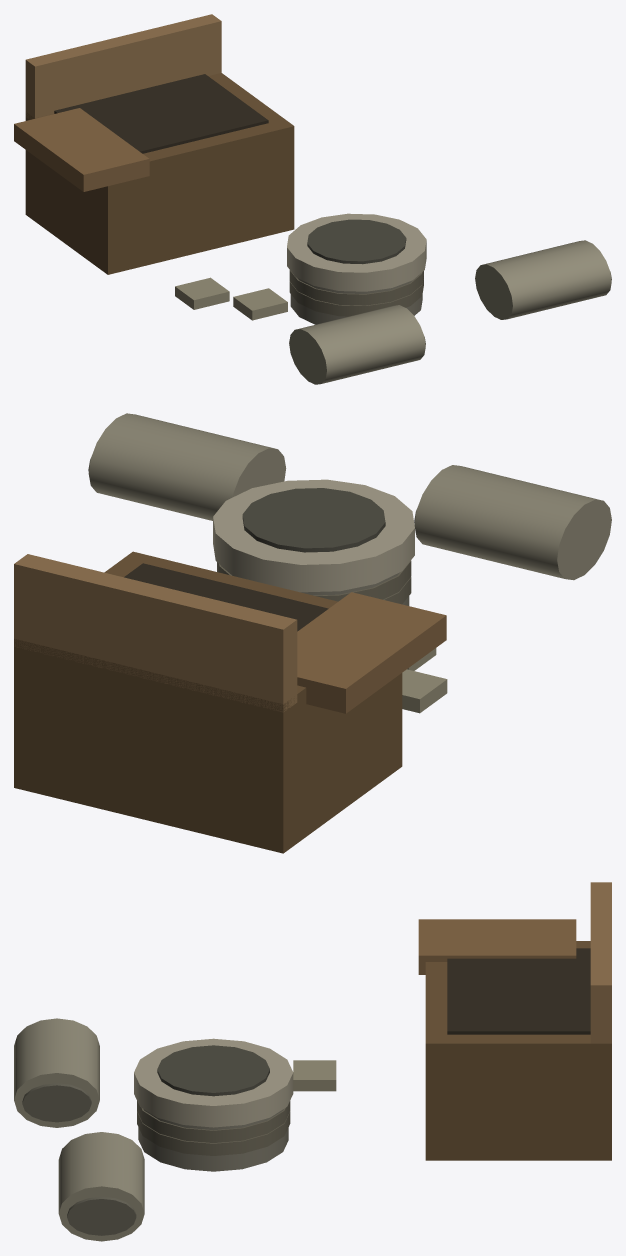
Rendered from CMU3DDecorFloorFood1.glb.
3 renders of one model, top to bottom at view 1: azimuth 30°, elevation 25°; view 2: azimuth 150°, elevation 25°; view 3: azimuth 270°, elevation 25°, orthographic. The views are drawn at different scales.
Parts seen in each view (by area): view 1: discarded carton, crushed can (×2), raised carton back flap, carton opening, folded carton flap, rolled can rim, dark can top, can seam (×2), torn wrapping (×2), dented metal can; view 2: discarded carton, crushed can (×2), raised carton back flap, folded carton flap, rolled can rim, dark can top, carton opening, torn wrapping, can seam; view 3: discarded carton, crushed can (×2), carton opening, rolled can rim, folded carton flap, dark can top, crushed can end (×2), can seam (×2), raised carton back flap, dented metal can, torn wrapping.
Part boxes in pixels (left/top/right/bottom): discarded carton: left=25, top=73, right=294, bottom=274; crushed can (×2): left=289, top=240, right=611, bottom=384; raised carton back flap: left=25, top=14, right=221, bottom=119; carton opening: left=54, top=74, right=268, bottom=153; folded carton flap: left=14, top=108, right=149, bottom=191; rolled can rim: left=287, top=213, right=426, bottom=291; dark can top: left=307, top=219, right=406, bottom=264; can seam (×2): left=289, top=270, right=423, bottom=316; torn wrapping (×2): left=175, top=277, right=287, bottom=320; dented metal can: left=290, top=273, right=422, bottom=324; discarded carton: left=14, top=551, right=402, bottom=853; crushed can (×2): left=88, top=413, right=611, bottom=580; raised carton back flap: left=14, top=554, right=297, bottom=712; folded carton flap: left=297, top=592, right=446, bottom=713; rolled can rim: left=213, top=479, right=414, bottom=592; dark can top: left=242, top=488, right=385, bottom=552; carton opening: left=124, top=563, right=328, bottom=631; torn wrapping: left=402, top=669, right=447, bottom=713; can seam: left=217, top=560, right=411, bottom=601; discarded carton: left=425, top=941, right=611, bottom=1160; crushed can (×2): left=14, top=1018, right=144, bottom=1241; carton opening: left=447, top=948, right=590, bottom=1034; rolled can rim: left=134, top=1038, right=293, bottom=1127; folded carton flap: left=418, top=919, right=576, bottom=974; dark can top: left=157, top=1045, right=269, bottom=1096; crushed can end (×2): left=22, top=1083, right=136, bottom=1235; can seam (×2): left=137, top=1101, right=290, bottom=1155; raised carton back flap: left=590, top=882, right=611, bottom=1043; dented metal can: left=138, top=1109, right=288, bottom=1171; torn wrapping: left=293, top=1060, right=336, bottom=1091.
Size of the model in its own units: 0.6795 by 0.27 by 0.835.
